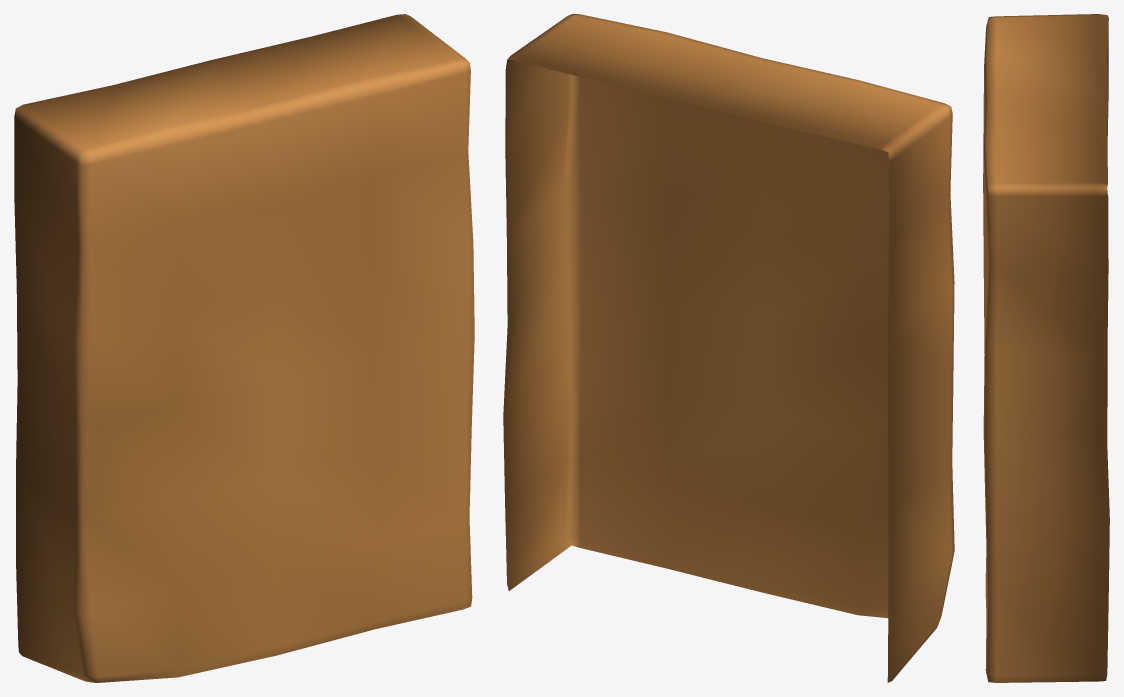
The model's file is block_t1.glb.
3 views of the same model, side by side, from view 1: azimuth 30°, elevation 25°; view 2: azimuth 150°, elevation 25°; view 3: azimuth 270°, elevation 25° (orthographic). The views are drawn at different scales.
Parts seen in each view (by area): view 1: block_t1; view 2: block_t1; view 3: block_t1.
Boxes of the visible parts, bbox=[...] form: block_t1: bbox=[14, 14, 474, 682]; block_t1: bbox=[503, 14, 954, 682]; block_t1: bbox=[983, 14, 1109, 682].
Size of the model in its own units: 1.52 by 2 by 0.4611.
